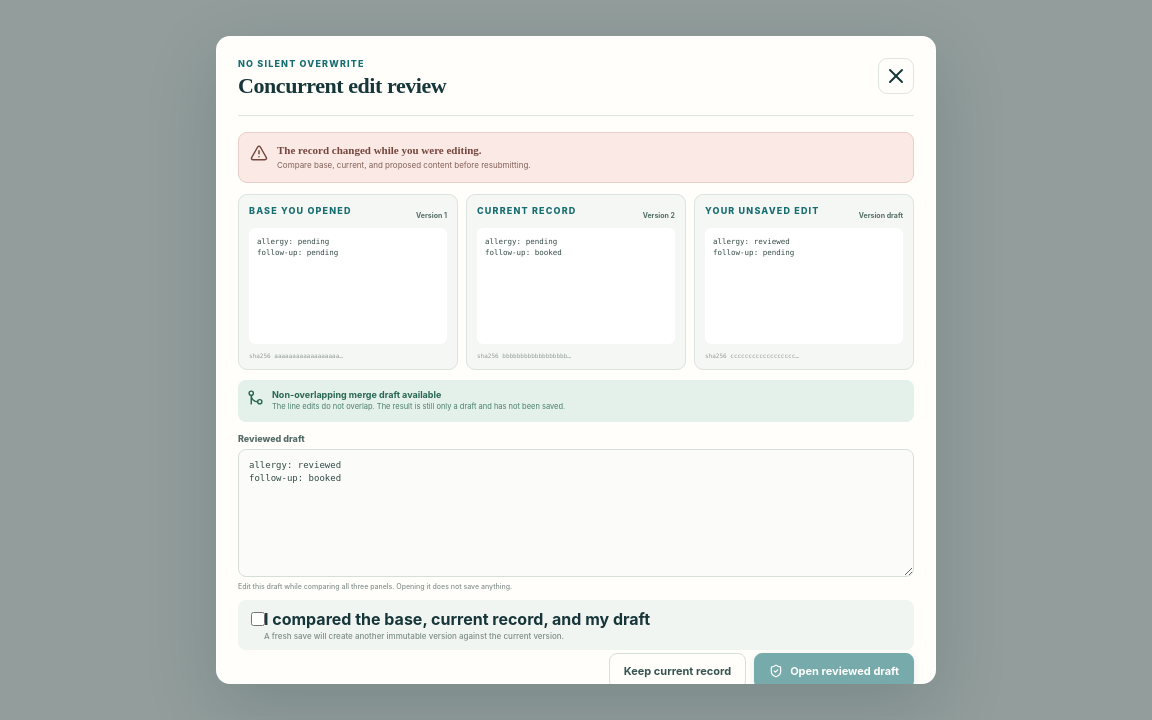
Test case: editing a proposed merge invalidates the prior attestation
Click the checkbox labelled "compared the base, current record, and my draft": [258, 619] box [251,612,265,626]
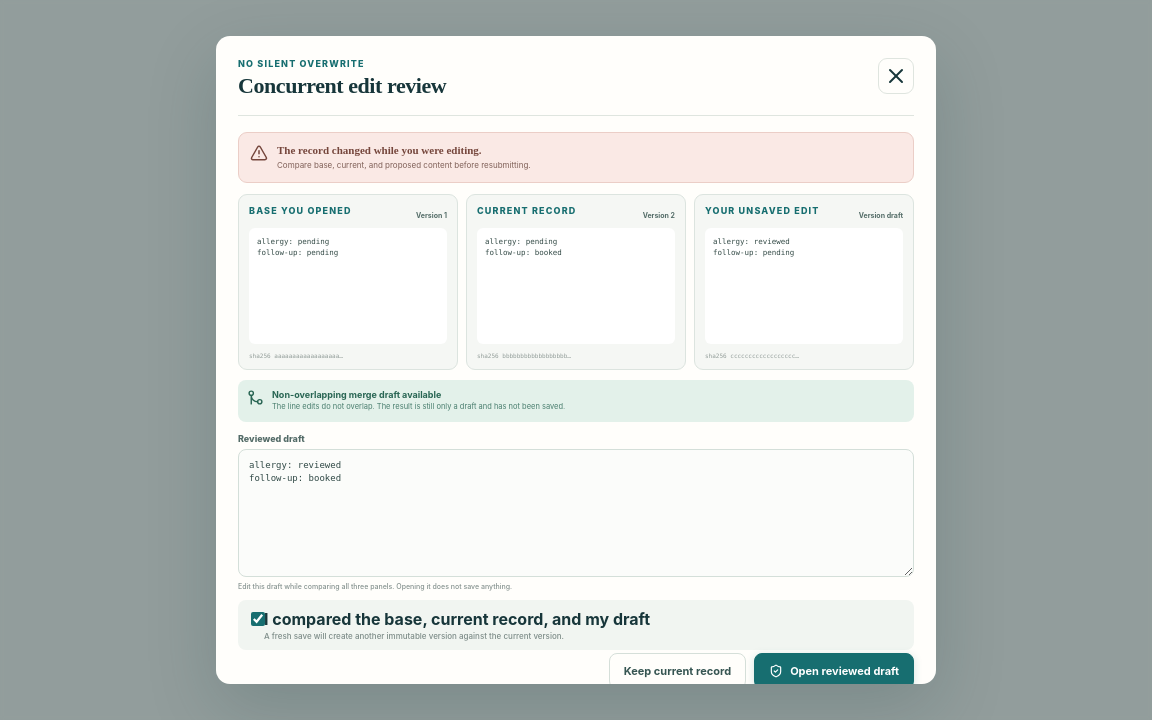
Expected: the button "Open reviewed draft" is enabled, [754,653,914,684]
Replace the text in the text box labelled "Reviewed draft" with "Clinician-adjusted merge.": [576, 513] box [238,449,914,577]
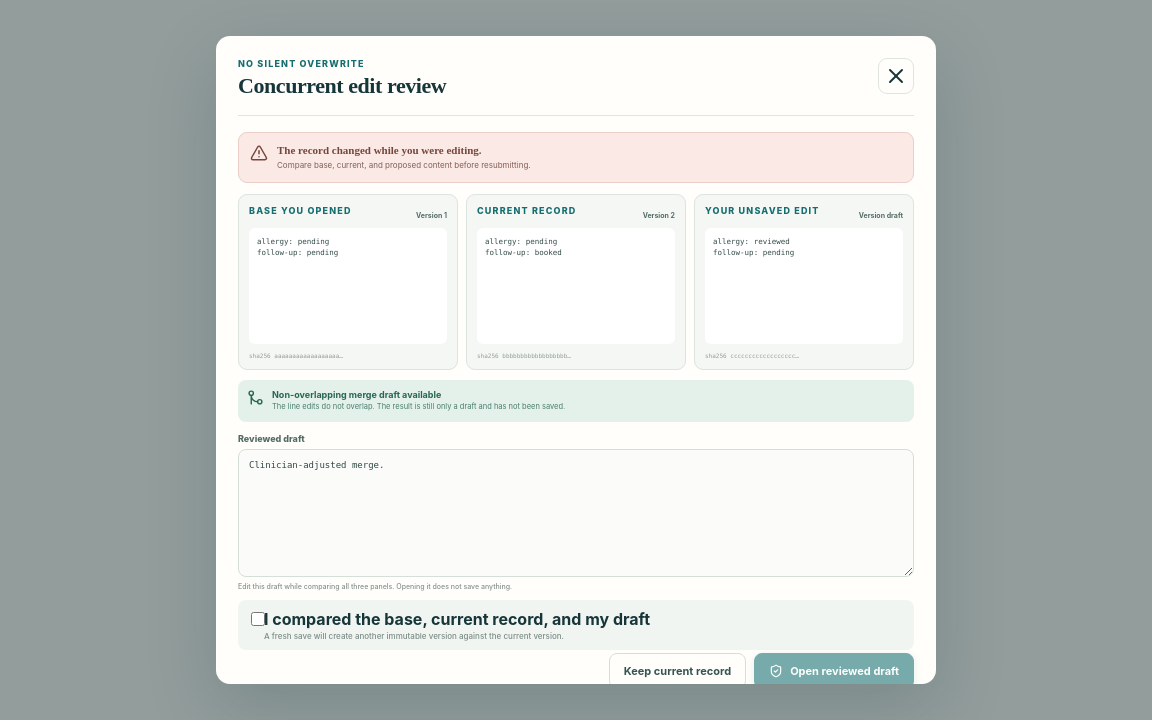
Expected: the checkbox labelled "compared the base, current record, and my draft" is not checked, [251,612,265,626]
Expected: the button "Open reviewed draft" is disabled, [754,653,914,684]
